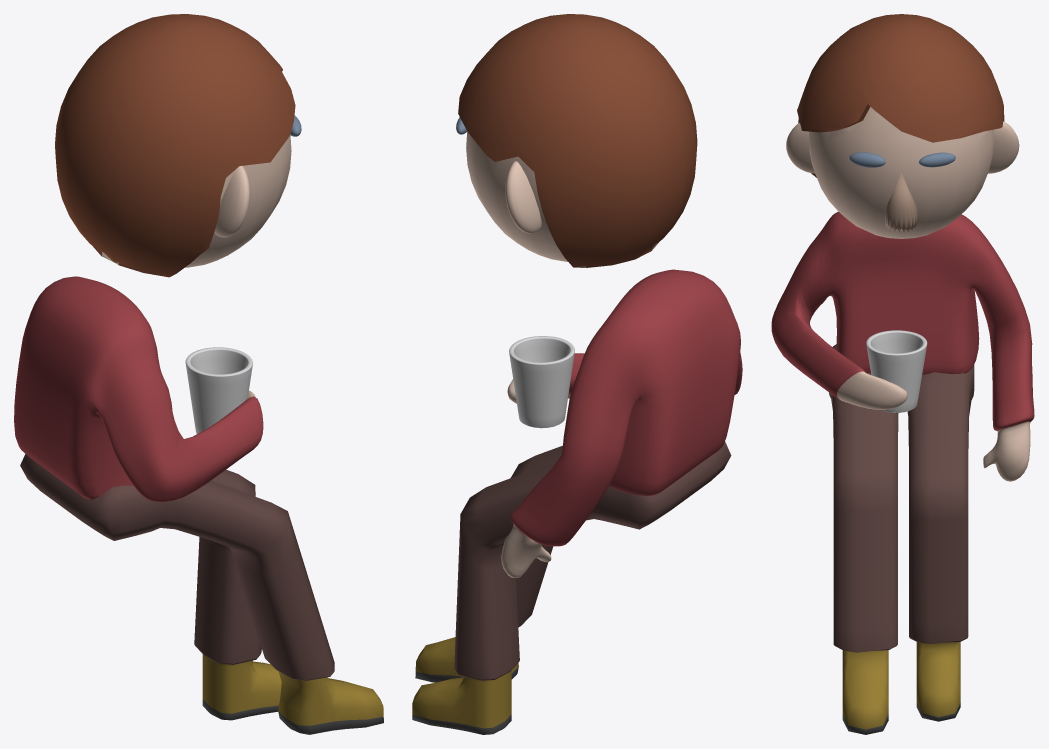
File: sittingNPC_bar.fbx
3 renders of one model, left to right at view 1: azimuth 30°, elevation 25°; view 2: azimuth 150°, elevation 25°; view 3: azimuth 270°, elevation 25°, orthographic. The views are drawn at different scales.
Visible parts, largest first — view 1: polySurface6; view 2: polySurface6; view 3: polySurface6.
Part boxes in pixels (bbox=[...]): polySurface6: bbox=[14, 14, 383, 734]; polySurface6: bbox=[412, 14, 742, 734]; polySurface6: bbox=[771, 14, 1034, 734].
Size of the model in its own units: 5.44 by 11.96 by 4.47.
